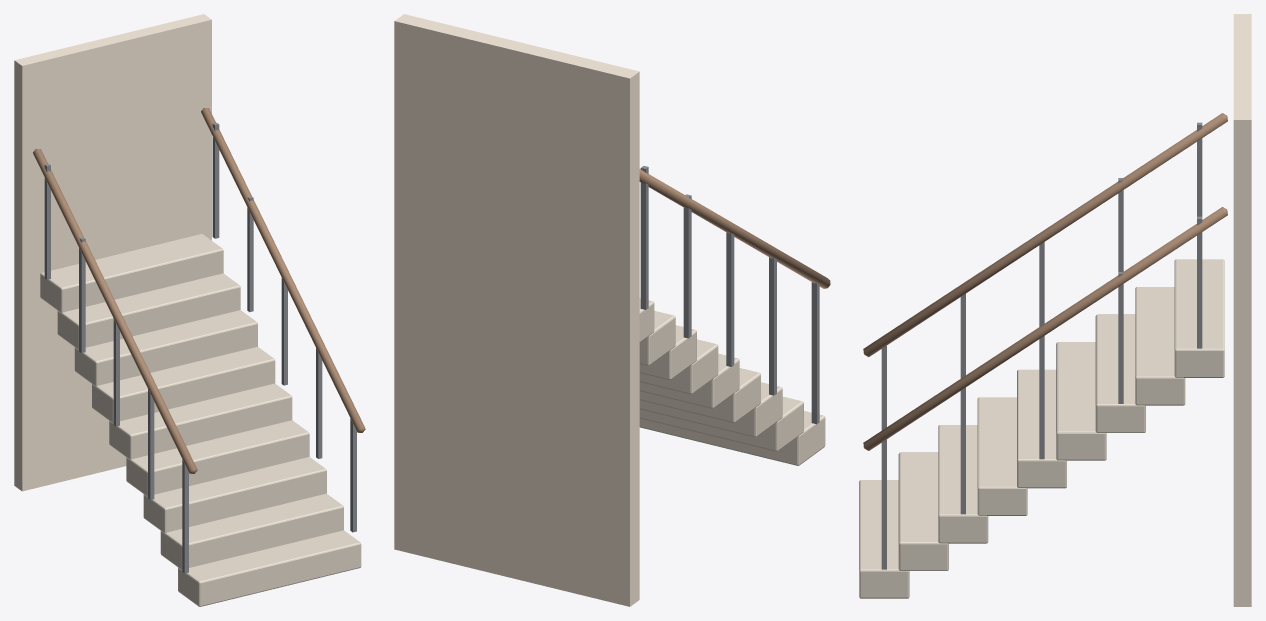
The model's file is escada.glb.
3 views of the same model, side by side, from view 1: azimuth 30°, elevation 25°; view 2: azimuth 150°, elevation 25°; view 3: azimuth 270°, elevation 25° (orthographic). The views are drawn at different scales.
Visible parts, largest first — view 1: escada; view 2: escada; view 3: escada.
Part boxes in pixels (x1,y1,x2,y2): escada: [14, 14, 365, 606]; escada: [394, 14, 830, 606]; escada: [859, 14, 1251, 606].
Size of the model in its own units: 1.4 by 3 by 2.19.
